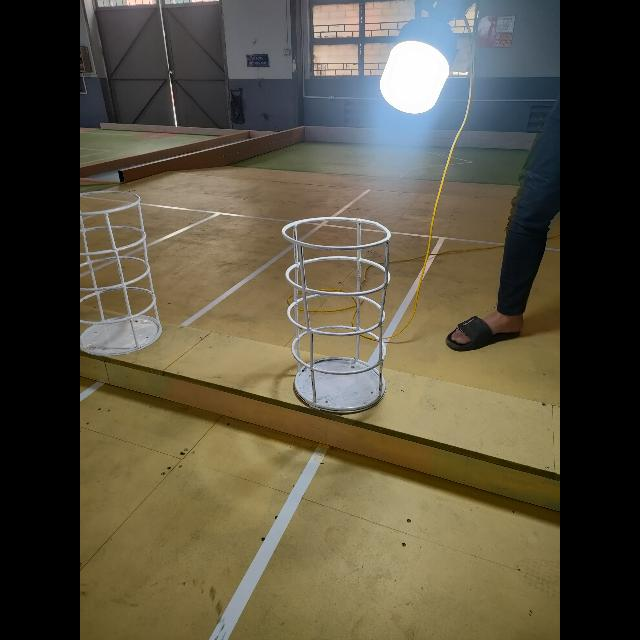S: (282, 216, 391, 414), (80, 189, 162, 357)
